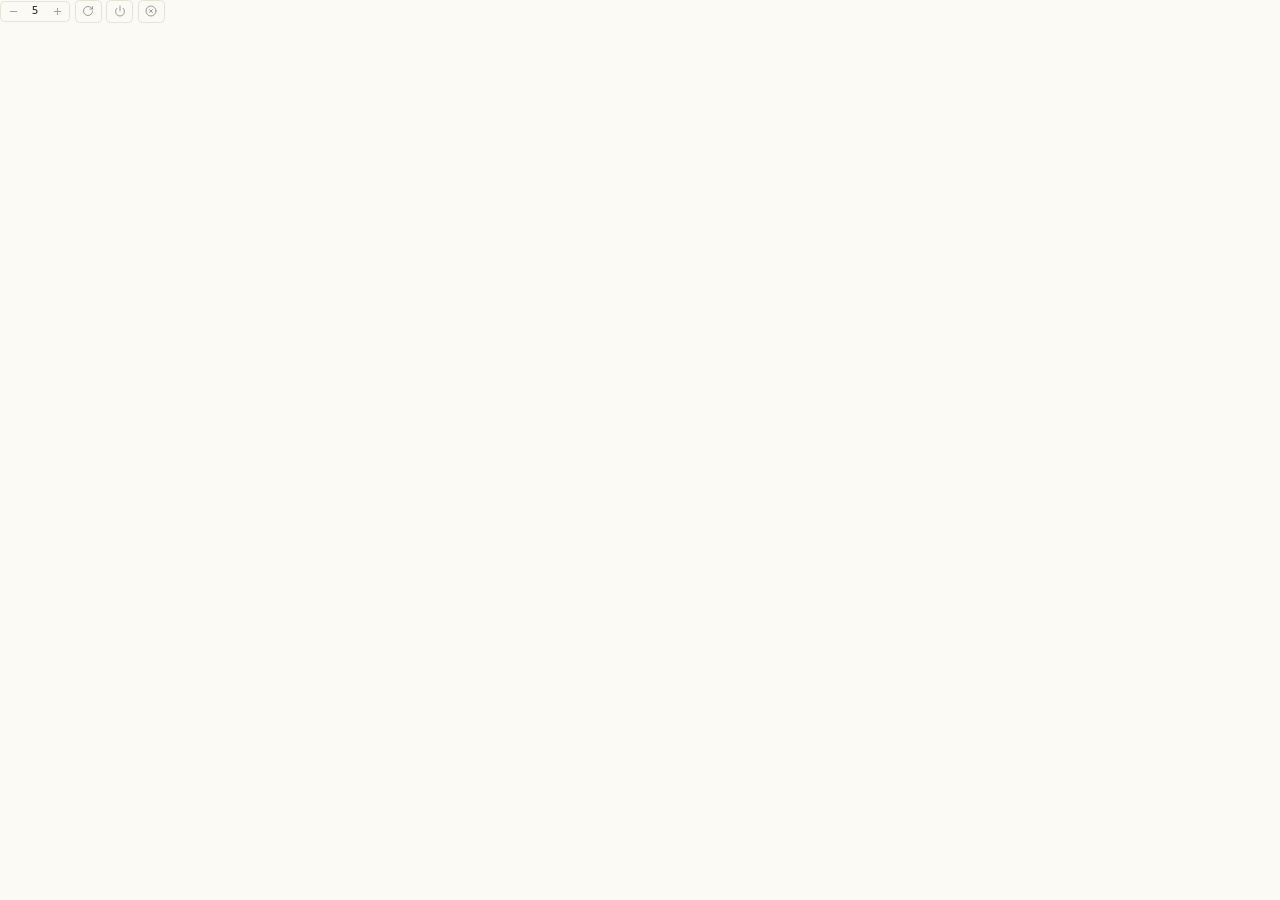
Test: WorkloadActions › opens the kill dialog from the kill button
Click the button named "Kill" at (151, 11), box [138,0,165,23]
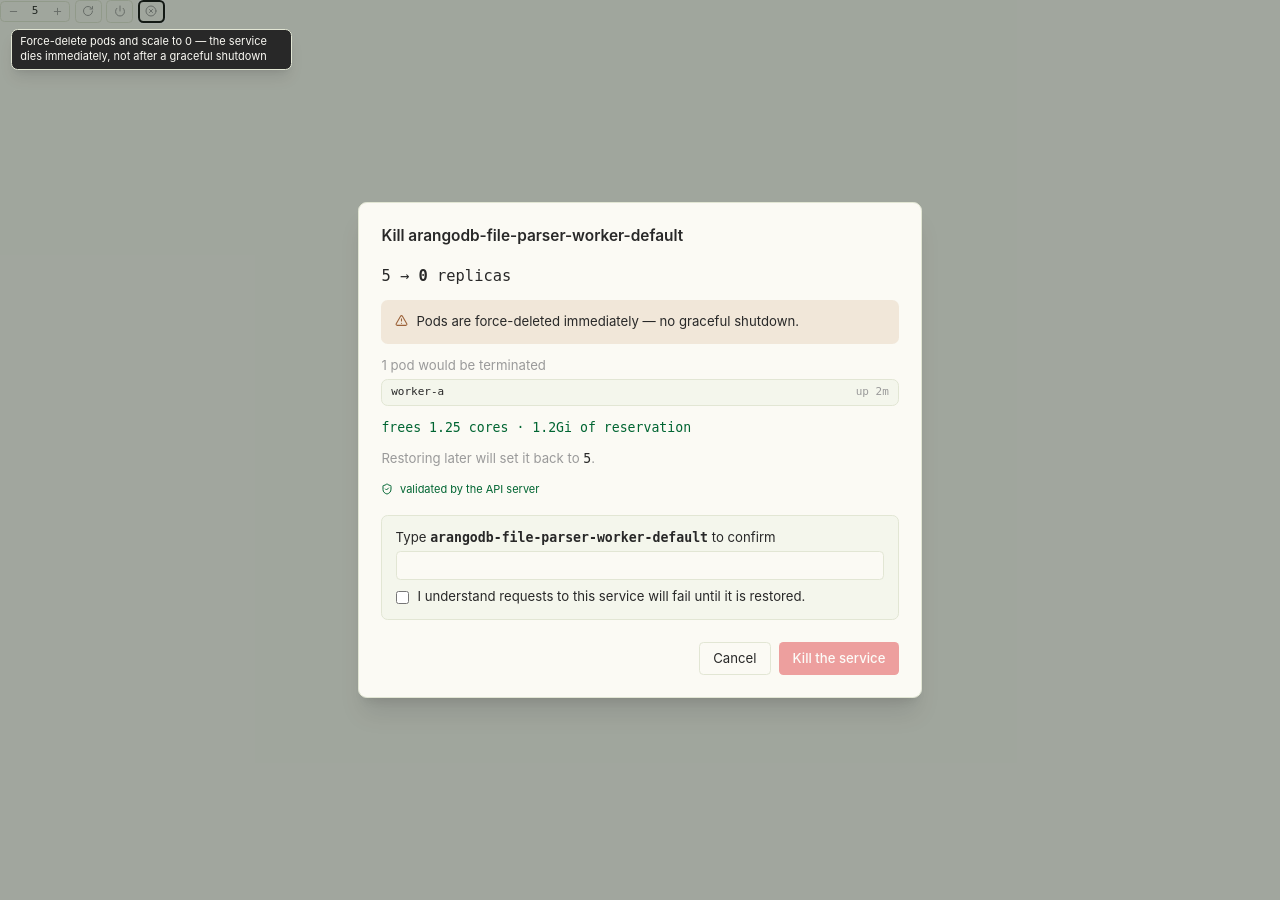
Expected: the heading "Kill arangodb-file-parser-worker-default" is shown, [381,226,683,245]
Expected: the button "Kill the service" is disabled, [779,642,899,675]
